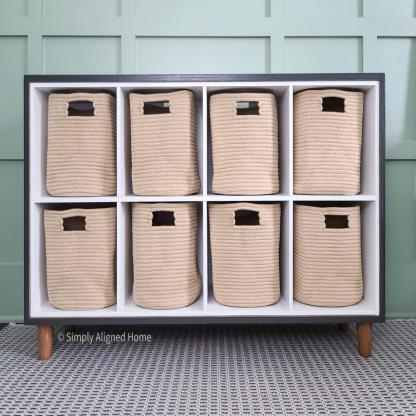lamp: (22, 74, 387, 359)
